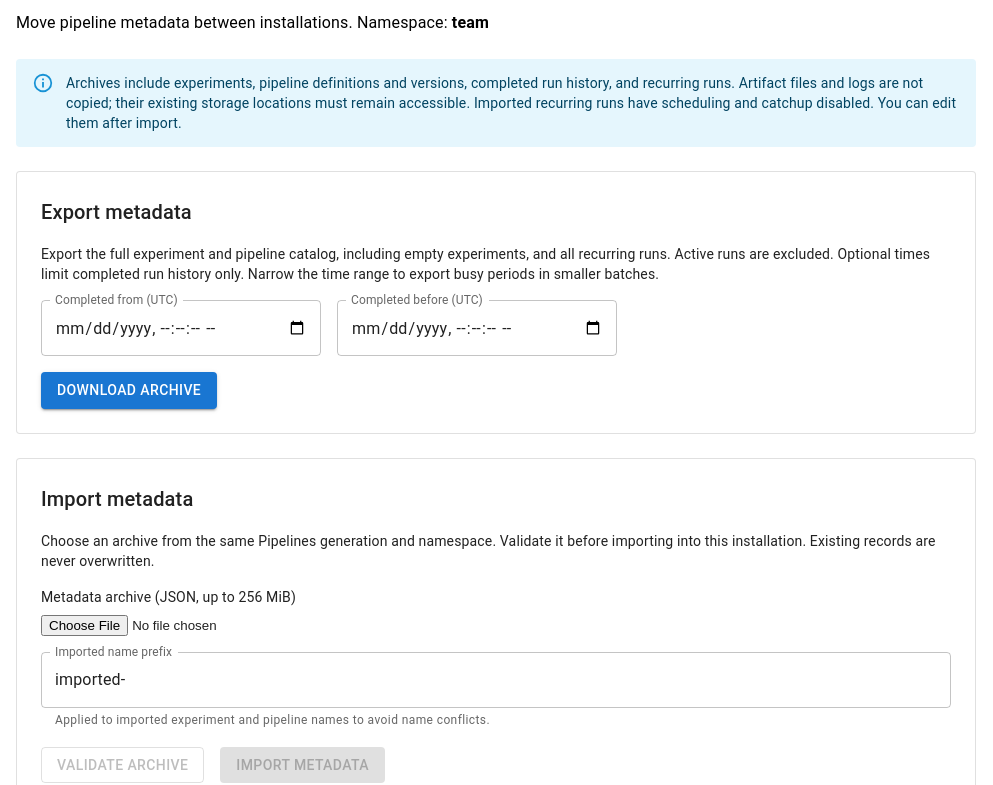
MetadataTransferForm › rejects a reversed date range before starting export
Type "2026-10-01T12:31:45" into the field labelled "Completed from (UTC)" at (181, 328), box [41,300,321,356]
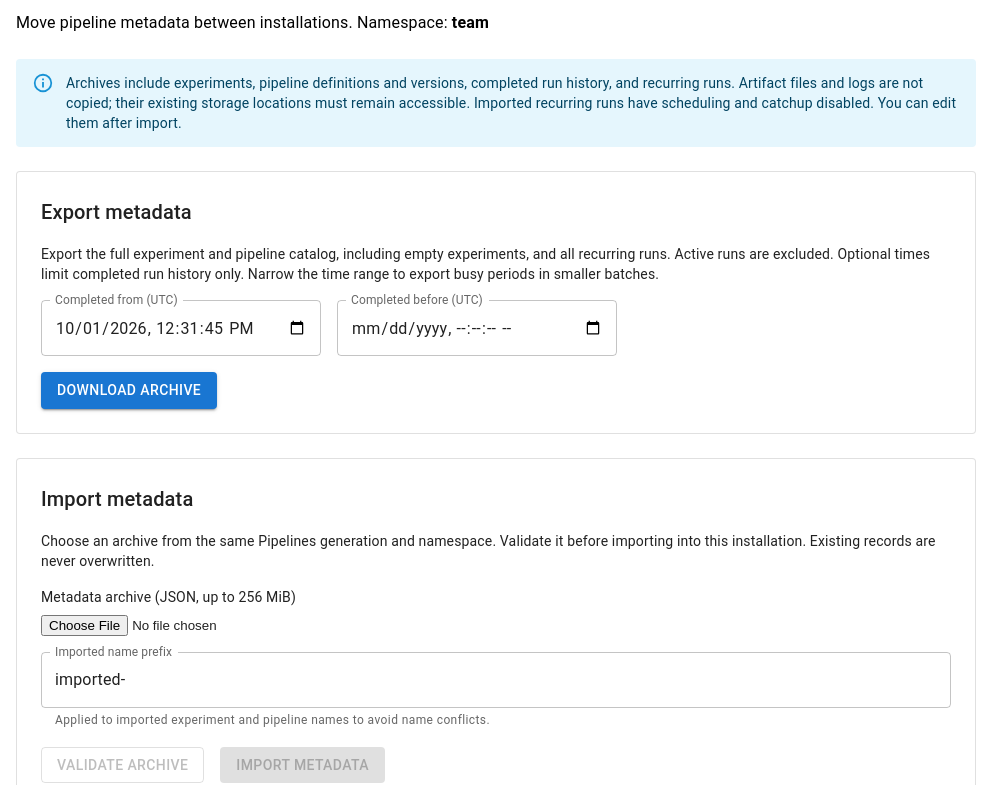
Type "2026-10-01T12:30:15" into the field labelled "Completed before (UTC)" at (477, 328), box [337,300,617,356]
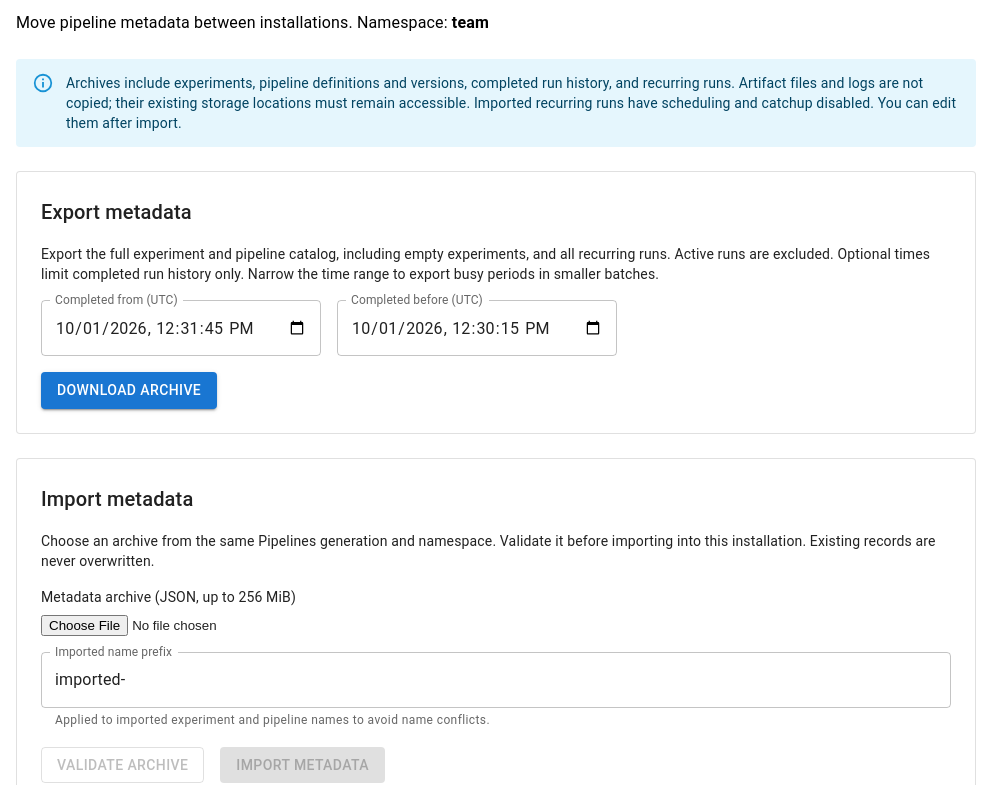
Click the button "Download archive" at (129, 390), box [41,372,217,409]
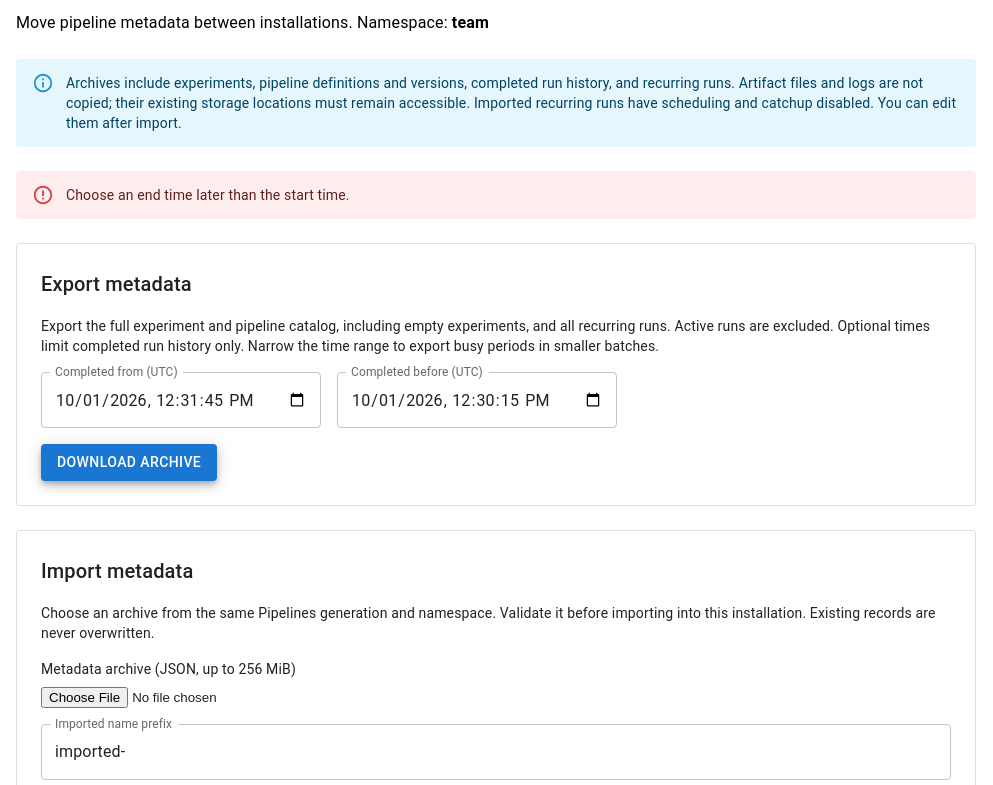
Result: the text "Choose an end time later than the start time." is shown at [66,187,350,203]
